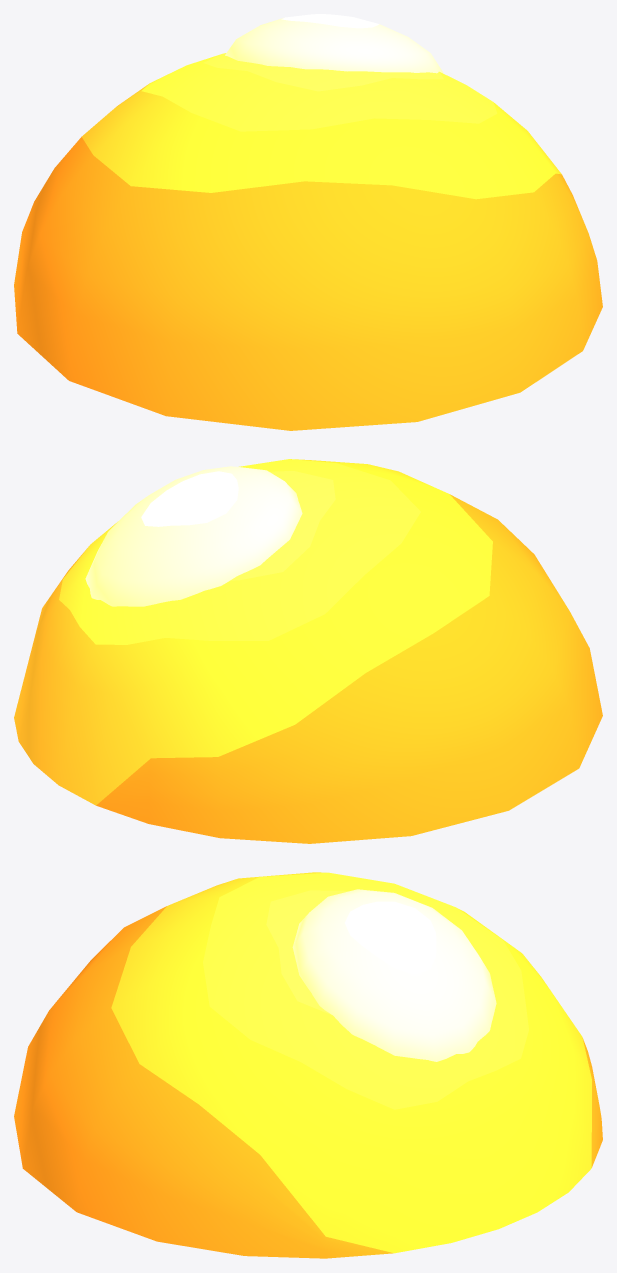
File: shot_scatter.glb
3 views of the same model, one above another, from view 1: azimuth 30°, elevation 25°; view 2: azimuth 150°, elevation 25°; view 3: azimuth 270°, elevation 25° (orthographic).
Parts seen in each view (by area): view 1: shot_scatter_0_ball, shot_scatter_0_core; view 2: shot_scatter_0_ball, shot_scatter_0_core; view 3: shot_scatter_0_ball, shot_scatter_0_core.
Boxes of the visible parts, bbox=[...] form: shot_scatter_0_ball: bbox=[14, 53, 602, 430]; shot_scatter_0_core: bbox=[225, 14, 443, 73]; shot_scatter_0_ball: bbox=[14, 459, 602, 843]; shot_scatter_0_core: bbox=[85, 466, 302, 606]; shot_scatter_0_ball: bbox=[14, 872, 602, 1258]; shot_scatter_0_core: bbox=[292, 889, 496, 1061].
Size of the model in its own units: 6.07 by 2.85 by 6.07.
